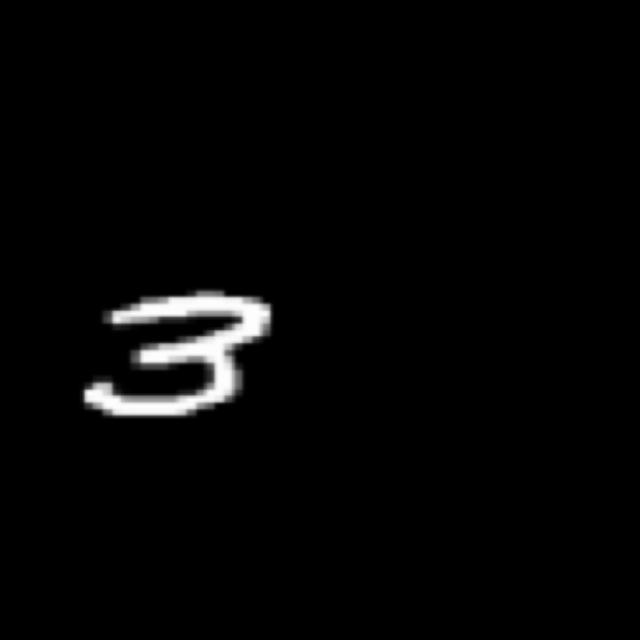three -3-: (78, 284, 281, 424)
